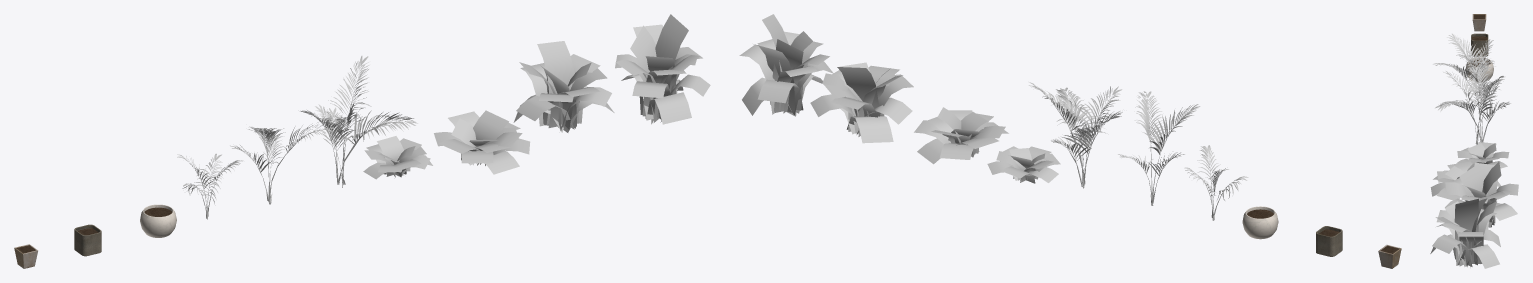
The model's file is plants.fbx.
3 views of the same model, side by side, from view 1: azimuth 30°, elevation 25°; view 2: azimuth 150°, elevation 25°; view 3: azimuth 270°, elevation 25° (orthographic). The views are drawn at different scales.
Visible parts, largest first — view 1: plant_7, plant_6, plant_5, plant_3, plant_4, plant_2, pot_1, plant_1, pot_2, pot_3; view 2: plant_6, plant_7, plant_5, plant_3, plant_2, plant_4, pot_1, plant_1, pot_2, pot_3; view 3: plant_7, plant_6, plant_3, plant_2, plant_4, plant_5, pot_2, plant_1, pot_1, pot_3.
Part boxes in pixels (box(x1,y1,x2,y2)): plant_7: box(615, 14, 710, 124); plant_6: box(513, 41, 614, 132); plant_5: box(434, 110, 530, 174); plant_3: box(300, 56, 417, 187); plant_4: box(363, 136, 432, 179); plant_2: box(230, 121, 335, 204); pot_1: box(140, 204, 176, 237); plant_1: box(177, 153, 244, 219); pot_2: box(74, 224, 101, 256); pot_3: box(14, 244, 37, 268); plant_6: box(810, 62, 913, 143); plant_7: box(739, 14, 833, 116); plant_5: box(914, 107, 1008, 164); plant_3: box(1028, 82, 1122, 188); plant_2: box(1118, 91, 1200, 205); plant_4: box(987, 146, 1060, 183); pot_1: box(1242, 206, 1278, 239); plant_1: box(1184, 145, 1248, 220); pot_2: box(1316, 226, 1342, 256); pot_3: box(1378, 245, 1401, 268); plant_7: box(1430, 198, 1500, 268); plant_6: box(1445, 161, 1518, 229); plant_3: box(1435, 65, 1510, 144); plant_2: box(1433, 33, 1501, 119); plant_4: box(1456, 142, 1509, 168); plant_5: box(1430, 161, 1500, 200); pot_2: box(1471, 33, 1488, 56); plant_1: box(1456, 39, 1494, 95); pot_1: box(1465, 57, 1493, 82); pot_3: box(1472, 14, 1486, 31).
Size of the model in its own units: 11.26 by 1.86 by 1.67.
